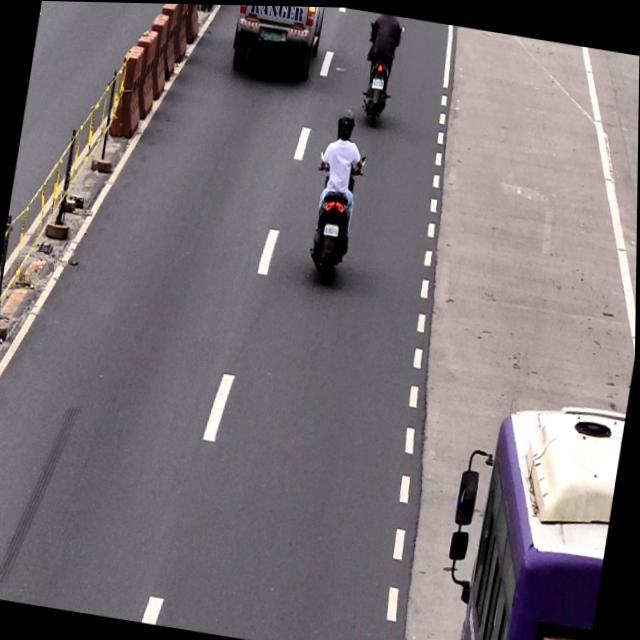Bus: (454, 387, 628, 640)
License-Plate: (323, 220, 340, 238)
Motorcycle: (312, 99, 367, 278), (357, 11, 399, 128)
